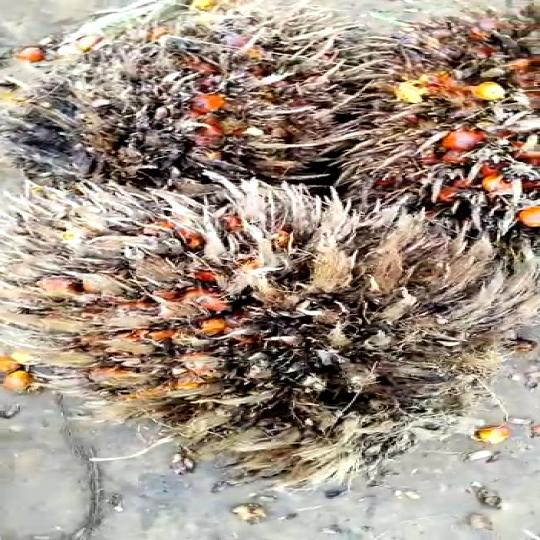terlalu masak: (0, 192, 529, 482), (0, 55, 261, 182)
